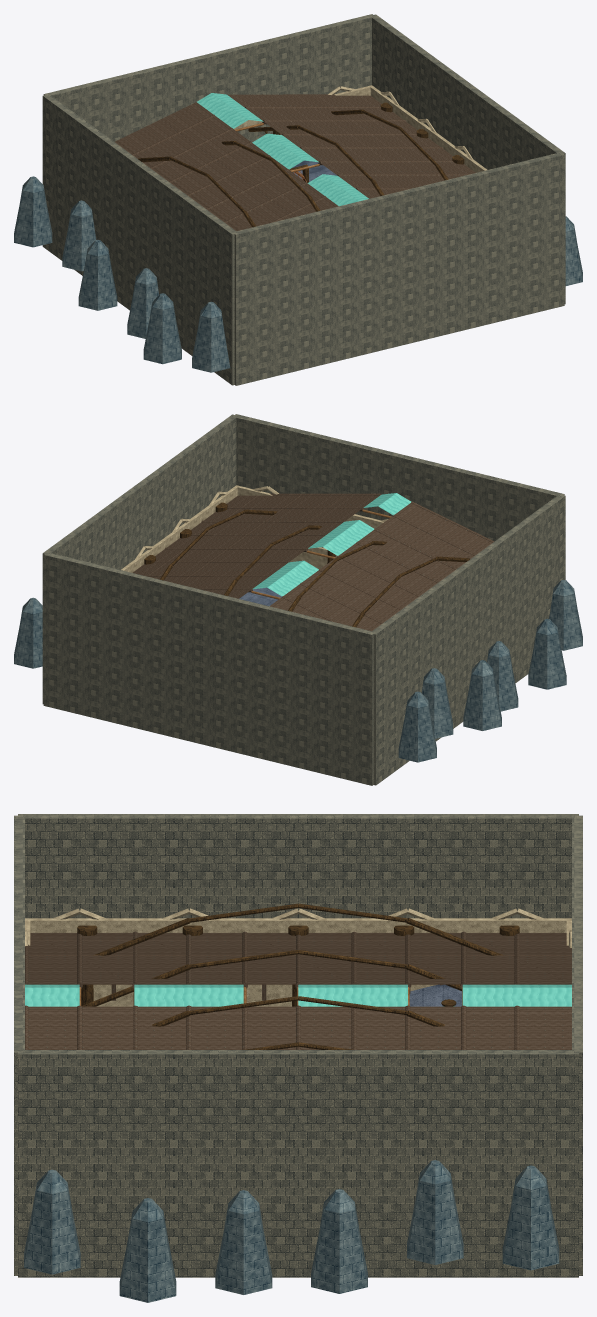
File: SignalLoom-92c495459cc1.glb
The picture shows the model from 3 angles, top to bottom: view 1: azimuth 30°, elevation 25°; view 2: azimuth 150°, elevation 25°; view 3: azimuth 270°, elevation 25°; orthographic projection. The views are drawn at different scales.
Parts seen in each view (by area): view 1: C_Solids, Rim, Horizon; view 2: C_Solids, Rim, Horizon; view 3: C_Solids, Rim, Horizon, Terrain.
Part boxes in pixels (bbox=[...]): C_Solids: bbox=[42, 14, 565, 385]; Rim: bbox=[115, 85, 487, 231]; Horizon: bbox=[14, 176, 582, 372]; C_Solids: bbox=[42, 414, 565, 785]; Rim: bbox=[121, 485, 494, 631]; Horizon: bbox=[14, 580, 582, 762]; C_Solids: bbox=[14, 814, 582, 1277]; Rim: bbox=[25, 903, 571, 1049]; Horizon: bbox=[24, 1160, 559, 1302]; Terrain: bbox=[409, 984, 461, 1006].
Bounding box in the file's own units: 52.8 × 18 × 41.6.
21 materials, 21 textured.
